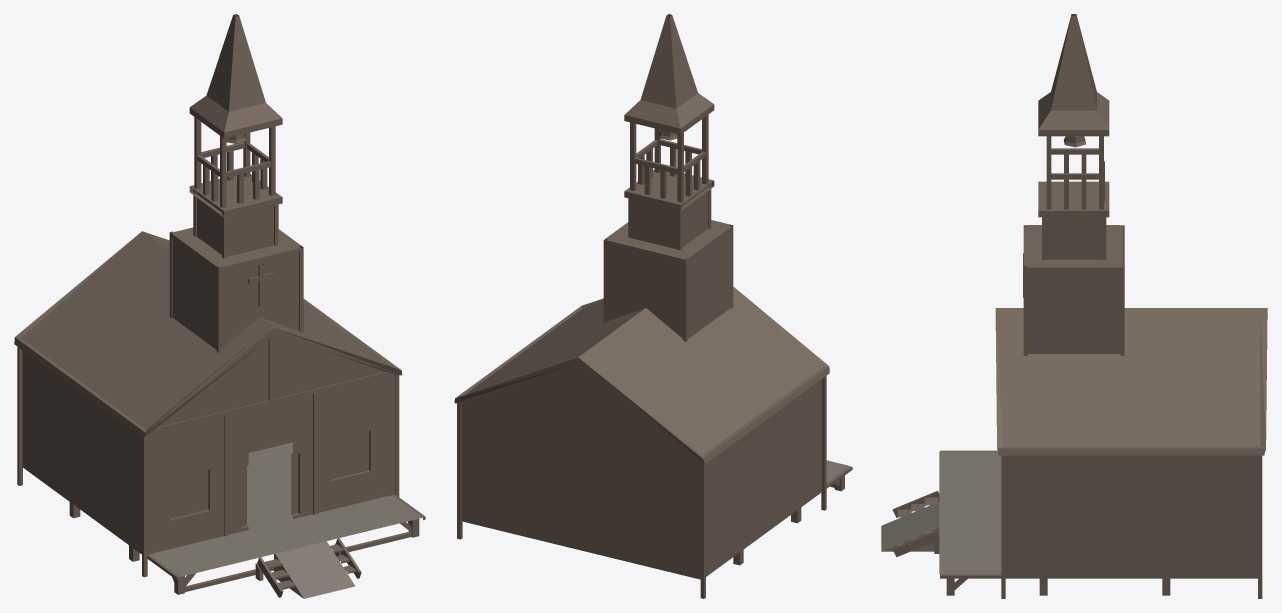
File: church.zfix-v14.lod2.glb
3 views of the same model, side by side, from view 1: azimuth 30°, elevation 25°; view 2: azimuth 150°, elevation 25°; view 3: azimuth 270°, elevation 25° (orthographic). The views are drawn at different scales.
Visible parts, largest first — view 1: Object079_Material #30_0; view 2: Object079_Material #30_0; view 3: Object079_Material #30_0.
Part boxes in pixels (x1=…): Object079_Material #30_0: x1=14, y1=14, x2=425, y2=598; Object079_Material #30_0: x1=454, y1=14, x2=852, y2=598; Object079_Material #30_0: x1=881, y1=14, x2=1267, y2=598.
Size of the model in its own units: 8.52 by 16 by 10.69.
